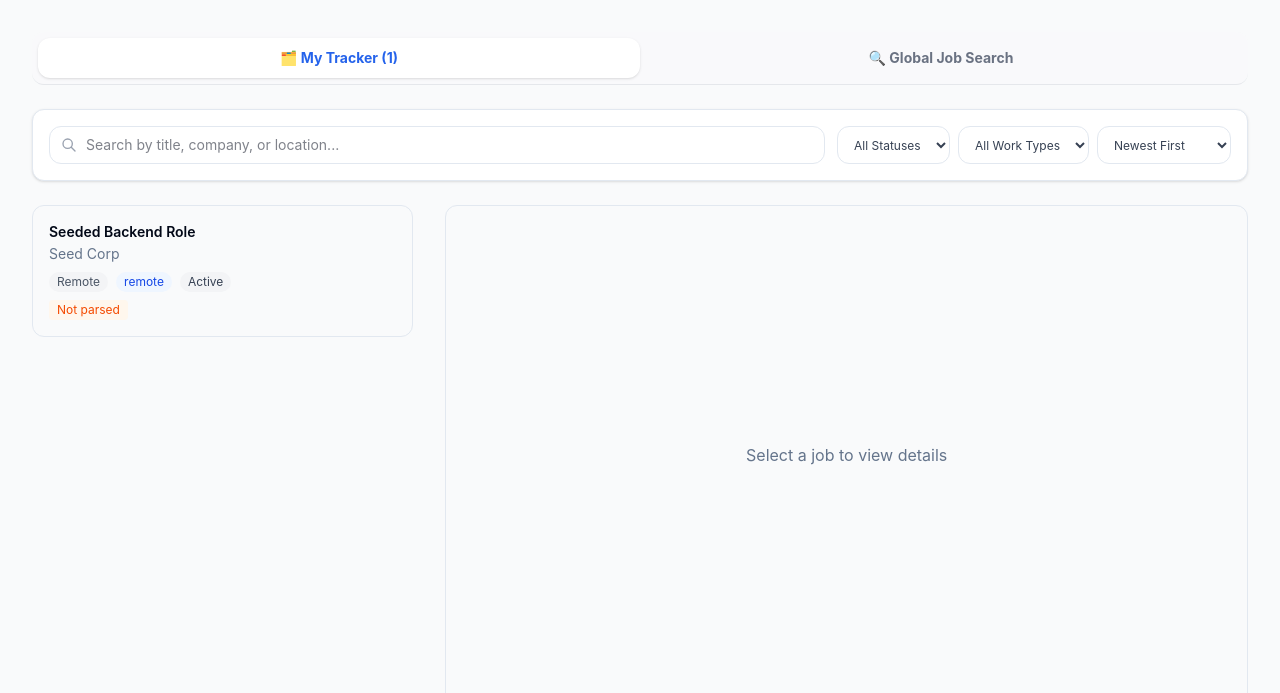
it: High-churn page gates (render + one interaction) › JobsPage renders seeded jobs and switches to the global search tab
The width and height of the screenshot is (1280, 693).
Expected: the heading "Seeded Backend Role" is shown, [49, 223, 196, 240]
Note: Interaction gate: the Global Job Search tab reveals its sub-tabs.
Click the button "🔍 Global Job Search" at [941, 58], box [640, 38, 1242, 78]
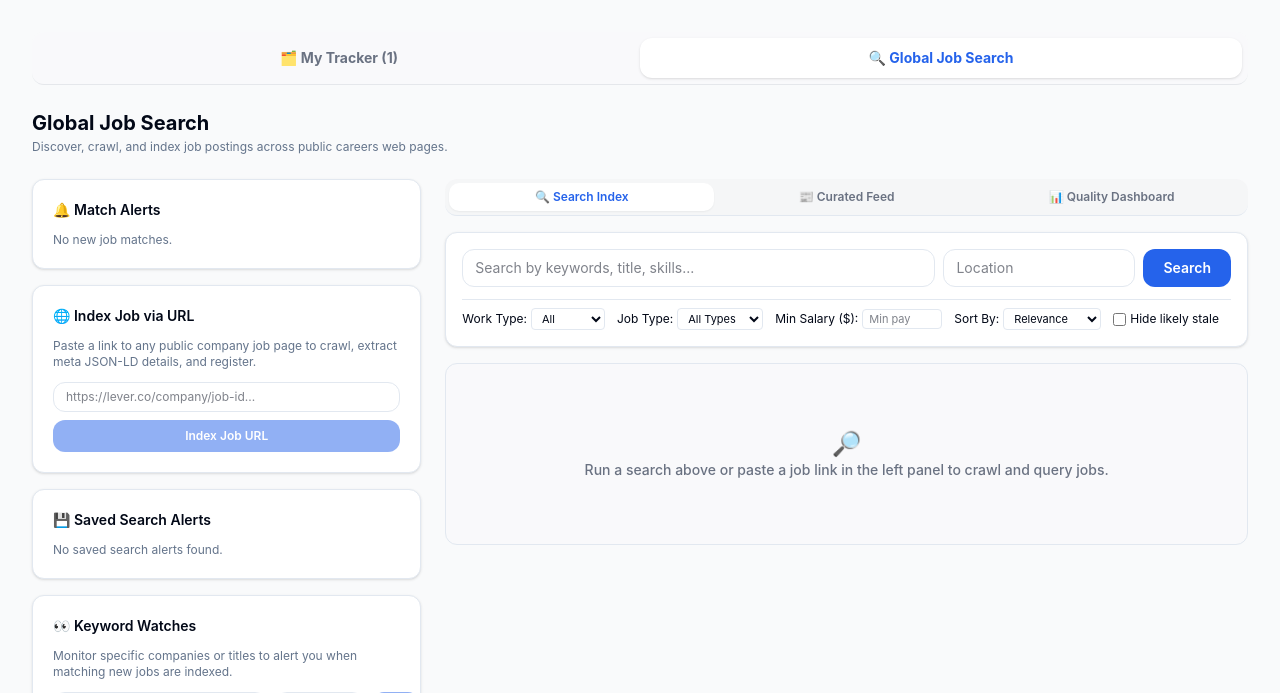
Expected: the button "📰 Curated Feed" is shown, [714, 183, 979, 211]
